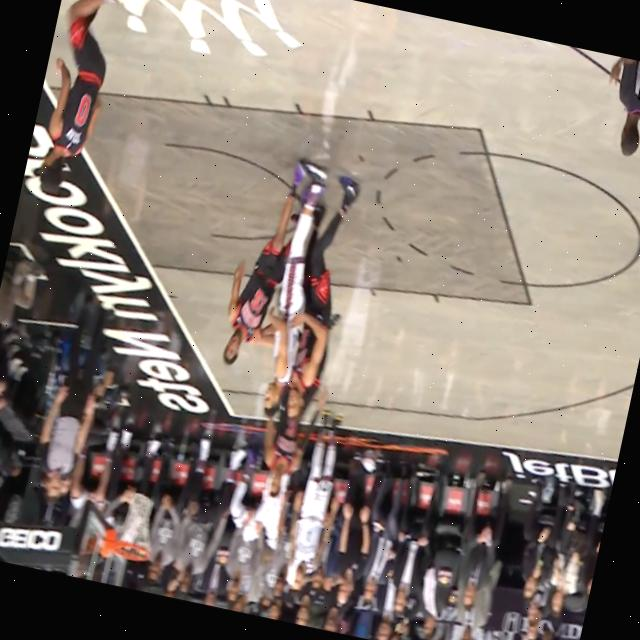foul: (186, 134, 378, 466)
